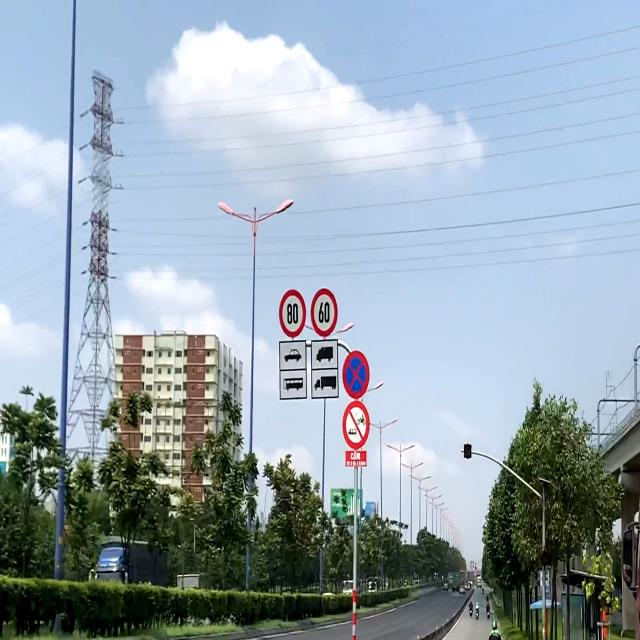P.127: (310, 288, 337, 337), (280, 290, 306, 336)
P.130: (341, 349, 370, 400)
